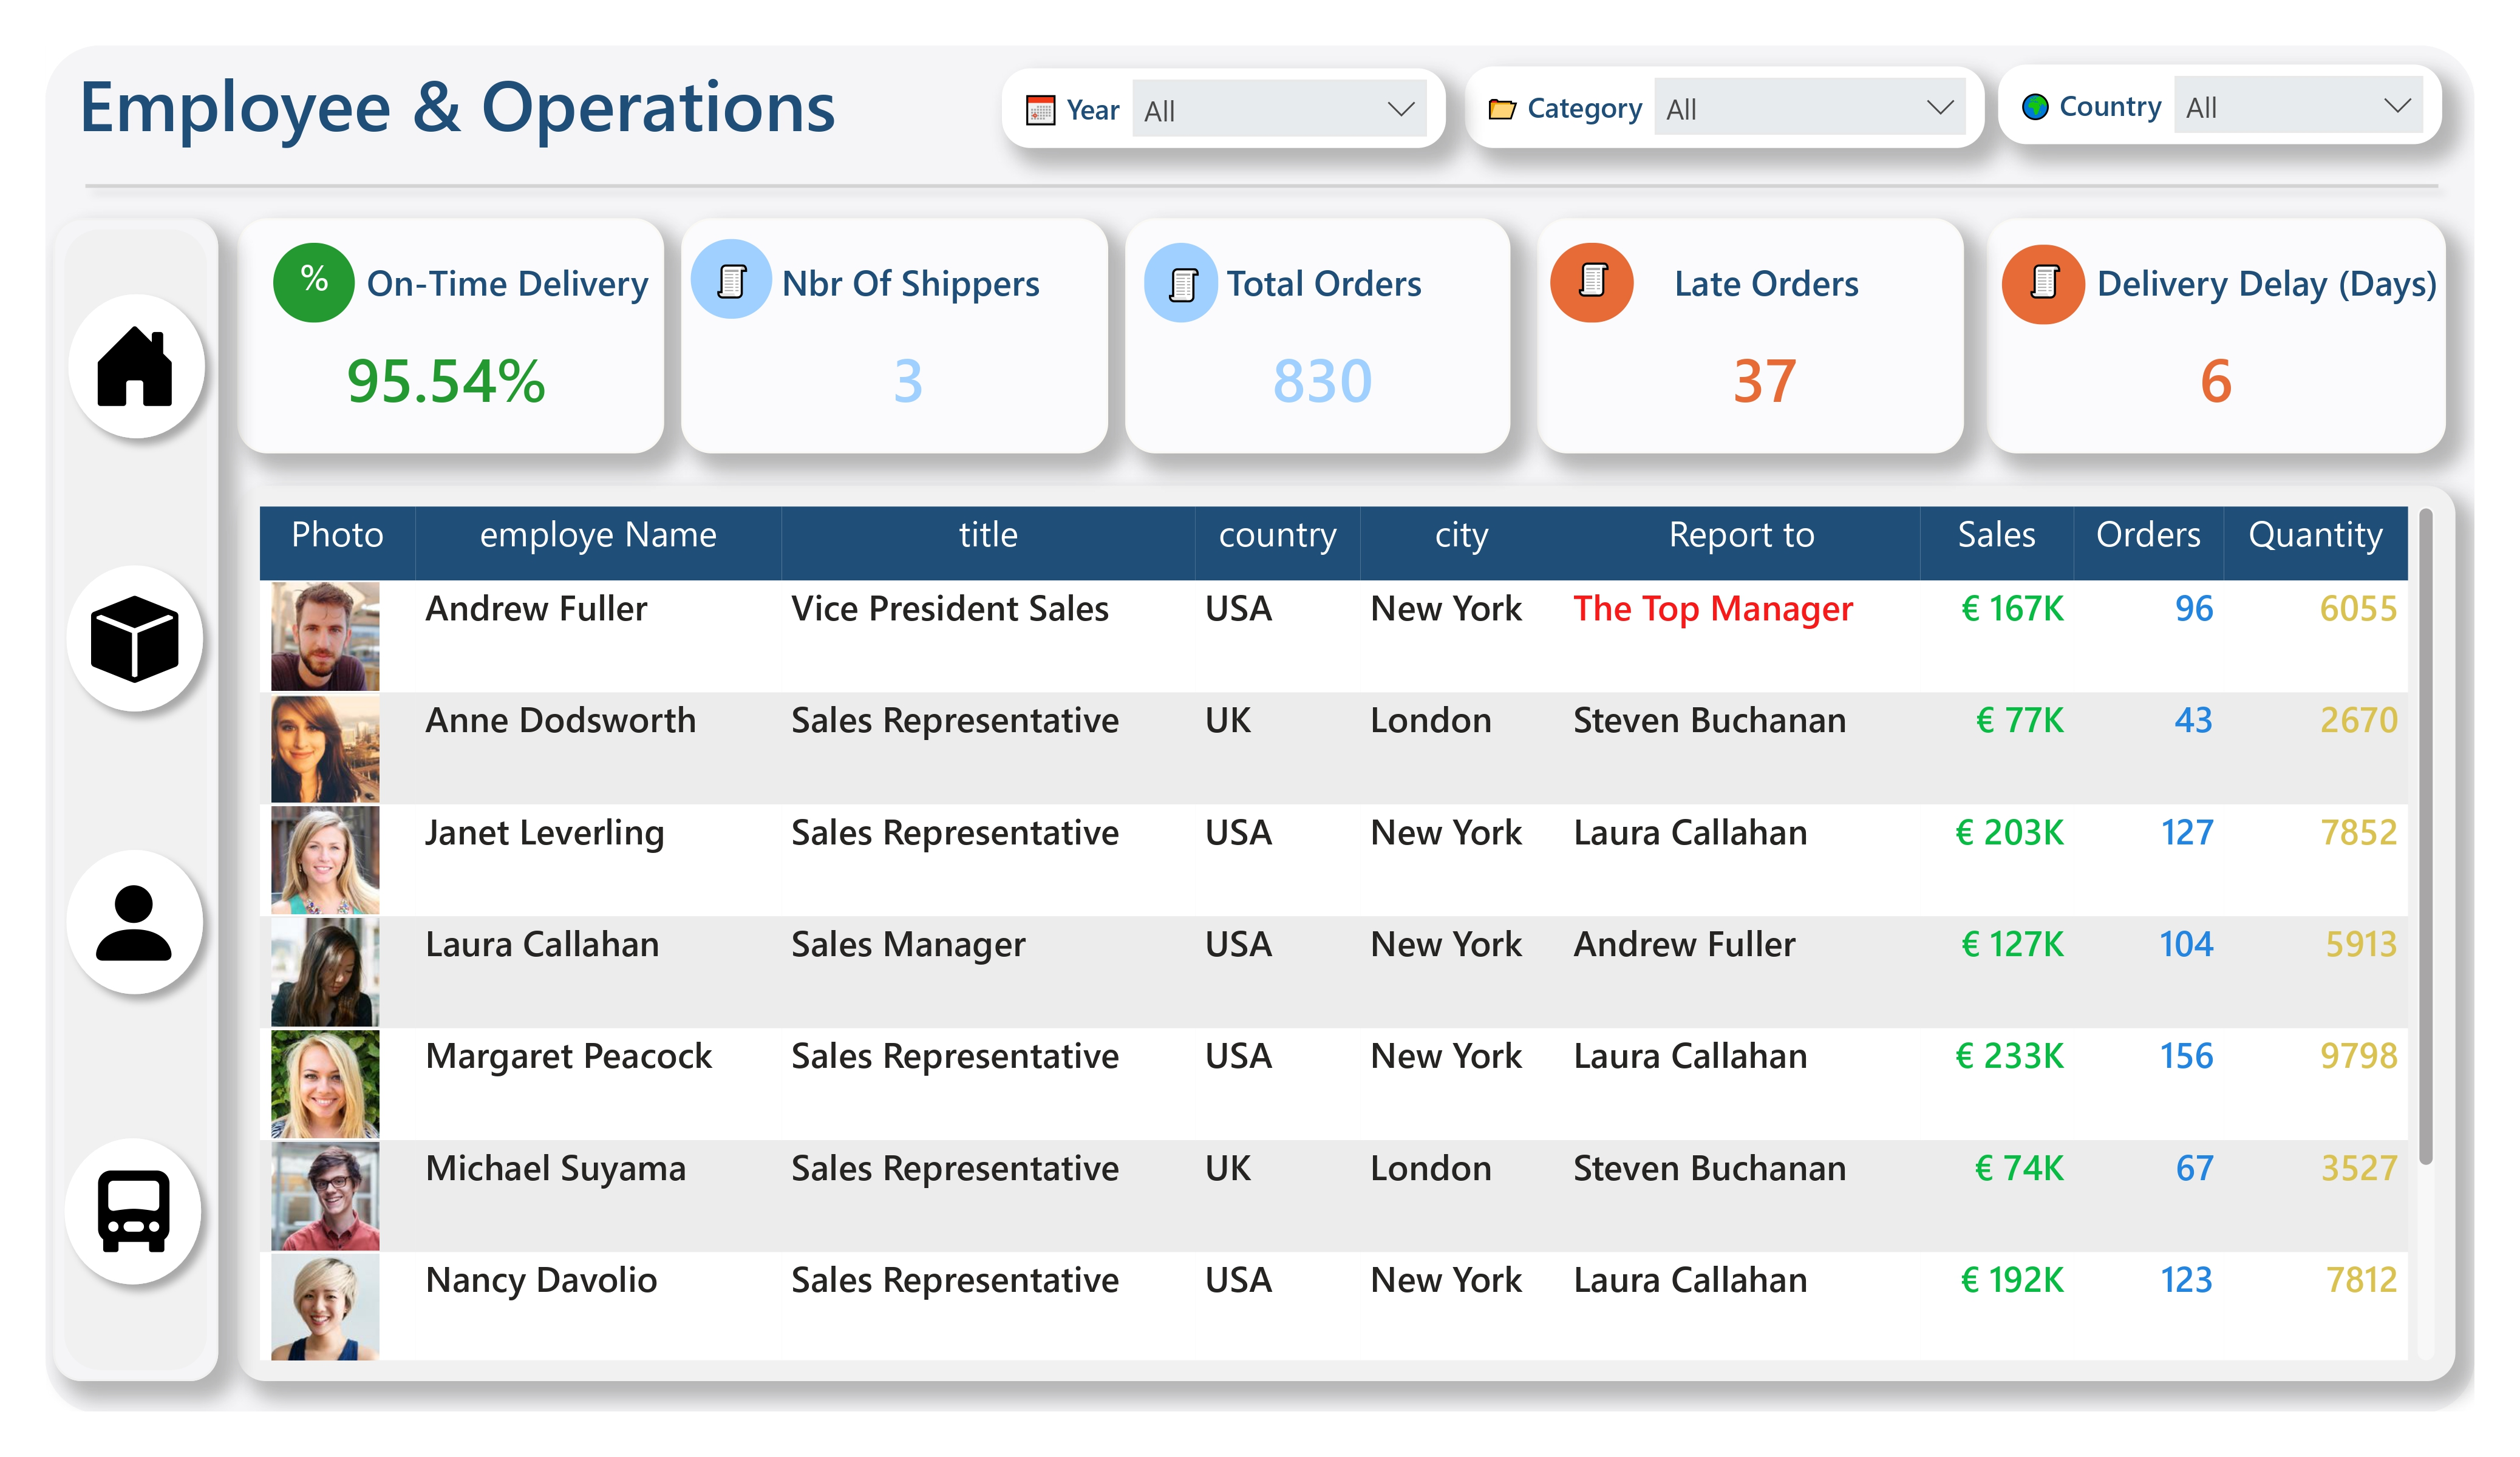

The page's visual inventory and layout, read from the dashboard file:
{"tool":"powerbi","page":{"name":"Employee & Operations","canvas":[1280,720],"ordinal":3},"visuals":[{"type":"shape","box":[0,0,1280,720.6],"z":0},{"type":"shape","box":[340.1,101.3,43.3,41.7],"z":0,"group":"g10"},{"type":"shape","box":[579.5,103.4,39.2,41.8],"z":0,"group":"g8"},{"type":"shape","box":[119.4,104.4,43.3,41.7],"z":0,"group":"g7"},{"type":"textbox","box":[11.8,0,628.2,58.8],"z":1000},{"type":"cardVisual","title":"Late Orders","fields":{"Data":["Measure.Late Orders"]},"box":[785.8,90.7,225.1,124.3],"z":1000,"group":"g4"},{"type":"textbox","box":[128.2,104.1,40,42.1],"z":1000,"group":"g7"},{"type":"shape","box":[792.5,104.1,43.7,42],"z":1000,"group":"g5"},{"type":"shape","box":[1030.9,105.5,43.7,42],"z":1000,"group":"g3"},{"type":"textbox","box":[347.2,107,36.2,43.8],"z":1000,"group":"g10"},{"type":"textbox","box":[586,109.1,32.7,44],"z":1000,"group":"g8"},{"type":"shape","box":[11.8,59.4,1258.2,30],"z":2000},{"type":"textbox","box":[800.1,106.9,36.2,43.8],"z":3000,"group":"g5"},{"type":"textbox","box":[1038.5,108.3,36.2,43.8],"z":3000,"group":"g3"},{"type":"tableEx","fields":{"Values":["employees.Photo","employees.employeeName","employees.title","employees.country","employees.city","employees.report_ManagerName","Measure.Net Sales","Measure.Total Orders","Measure.Total Quantity"]},"box":[100.8,231.8,1169.3,472.3],"z":3000},{"type":"group","id":"g1","title":"Group 10","box":[1023,90.7,241.9,124.3],"z":4000},{"type":"group","id":"g2","title":"Group 6","box":[100.8,90.7,223.4,124.3],"z":5000},{"type":"cardVisual","title":"Total Orders","fields":{"Data":["Measure.Total Orders"]},"box":[569.4,90.7,203.3,124.3],"z":6000,"group":"g11"},{"type":"group","id":"g3","title":"Group 1","box":[1030.9,105.5,43.6,47.3],"z":6000},{"type":"cardVisual","title":"Nbr Of Shippers","fields":{"Data":["CountNonNull(shippers.shipperID)"]},"box":[334.6,90.7,224.6,123.8],"z":7000,"group":"g6"},{"type":"group","id":"g4","title":"Group 2","box":[785.8,90.7,225.1,124.3],"z":7000},{"type":"cardVisual","title":"Delivery Delay (Days)","fields":{"Data":["Measure.Avg Delivery Delay (Days)"]},"box":[1023,90.7,241.9,124.3],"z":7000,"group":"g1"},{"type":"group","id":"g5","title":"Group 1","box":[792.5,104.1,43.7,46.7],"z":7000,"group":"g4"},{"type":"cardVisual","title":"On-Time Delivery","fields":{"Data":["Measure.On-Time Delivery %"]},"box":[100.8,90.7,224.6,123.8],"z":8000,"group":"g2"},{"type":"group","id":"g6","title":"Group 7","box":[334.6,90.7,225.1,124.3],"z":8000},{"type":"textbox","box":[748.5,10.8,273.1,43.1],"z":9000},{"type":"group","id":"g7","title":"Group 5","box":[119.4,104.1,48.5,42.3],"z":9000,"group":"g2"},{"type":"textbox","box":[503.8,11.8,234,41.9],"z":10000},{"type":"textbox","box":[1029.2,10,234,42.5],"z":11000},{"type":"group","id":"g8","title":"Group 8","box":[579.5,103.4,39.2,49.7],"z":11000,"group":"g11"},{"type":"slicer","title":"📅 Year","fields":{"Values":["Date.Year"]},"box":[562.9,7.7,175,42.8],"z":12000},{"type":"group","id":"g9","title":"Group 8","box":[340.1,101.3,43.3,49.2],"z":12000,"group":"g6"},{"type":"group","id":"g10","title":"Group 9","box":[340.1,101.3,43.3,49.2],"z":12001,"group":"g9"},{"type":"slicer","title":"📅 Year","fields":{"Values":["products.Category"]},"box":[838.1,7.2,184.3,41.8],"z":13000},{"type":"slicer","title":"📅 Year","fields":{"Values":["products.productName"]},"box":[1112.3,5.8,151.2,44.6],"z":14000},{"type":"shape","box":[4.3,90.7,86.4,613.4],"z":15000},{"type":"shape","box":[3,122,90,94],"z":16000},{"type":"image","box":[22.7,140,48.2,57.3],"z":17000},{"type":"shape","box":[1.8,265.5,90,94.5],"z":18000},{"type":"image","box":[23.6,276.4,46.4,72.7],"z":19000},{"type":"shape","box":[1.8,414.5,90,94.5],"z":20000},{"type":"image","box":[20,433.6,52.7,56.4],"z":21000},{"type":"shape","box":[0.9,567.3,90,94.5],"z":22000},{"type":"image","box":[25.5,580.9,42.7,67.3],"z":23000},{"type":"group","id":"g11","title":"Group 3","box":[569.4,90.7,203.3,124.3],"z":24000}]}

Visuals, with their boxes on the page's 1280x720 design canvas (x1, y1, x2, y2). These are canvas units, not pixel positions in the 2520x1457 screenshot, which may show the page scaled, cropped or inside an application window:
shape: x1=0, y1=0, x2=1280, y2=721
shape: x1=340, y1=101, x2=383, y2=143
shape: x1=580, y1=103, x2=619, y2=145
shape: x1=119, y1=104, x2=163, y2=146
textbox: x1=12, y1=0, x2=640, y2=59
"Late Orders" cardVisual: x1=786, y1=91, x2=1011, y2=215
textbox: x1=128, y1=104, x2=168, y2=146
shape: x1=792, y1=104, x2=836, y2=146
shape: x1=1031, y1=106, x2=1075, y2=148
textbox: x1=347, y1=107, x2=383, y2=151
textbox: x1=586, y1=109, x2=619, y2=153
shape: x1=12, y1=59, x2=1270, y2=89
textbox: x1=800, y1=107, x2=836, y2=151
textbox: x1=1038, y1=108, x2=1075, y2=152
tableEx - employees.Photo x employees.employeeName: x1=101, y1=232, x2=1270, y2=704
"Group 10" group: x1=1023, y1=91, x2=1265, y2=215
"Group 6" group: x1=101, y1=91, x2=324, y2=215
"Total Orders" cardVisual: x1=569, y1=91, x2=773, y2=215
"Group 1" group: x1=1031, y1=106, x2=1074, y2=153
"Nbr Of Shippers" cardVisual: x1=335, y1=91, x2=559, y2=214
"Group 2" group: x1=786, y1=91, x2=1011, y2=215
"Delivery Delay (Days)" cardVisual: x1=1023, y1=91, x2=1265, y2=215
"Group 1" group: x1=792, y1=104, x2=836, y2=151
"On-Time Delivery" cardVisual: x1=101, y1=91, x2=325, y2=214
"Group 7" group: x1=335, y1=91, x2=560, y2=215
textbox: x1=748, y1=11, x2=1022, y2=54
"Group 5" group: x1=119, y1=104, x2=168, y2=146
textbox: x1=504, y1=12, x2=738, y2=54
textbox: x1=1029, y1=10, x2=1263, y2=52
"Group 8" group: x1=580, y1=103, x2=619, y2=153
"📅 Year" slicer: x1=563, y1=8, x2=738, y2=50
"Group 8" group: x1=340, y1=101, x2=383, y2=150
"Group 9" group: x1=340, y1=101, x2=383, y2=150
"📅 Year" slicer: x1=838, y1=7, x2=1022, y2=49
"📅 Year" slicer: x1=1112, y1=6, x2=1264, y2=50
shape: x1=4, y1=91, x2=91, y2=704
shape: x1=3, y1=122, x2=93, y2=216
image: x1=23, y1=140, x2=71, y2=197
shape: x1=2, y1=266, x2=92, y2=360
image: x1=24, y1=276, x2=70, y2=349
shape: x1=2, y1=414, x2=92, y2=509
image: x1=20, y1=434, x2=73, y2=490
shape: x1=1, y1=567, x2=91, y2=662
image: x1=26, y1=581, x2=68, y2=648
"Group 3" group: x1=569, y1=91, x2=773, y2=215
